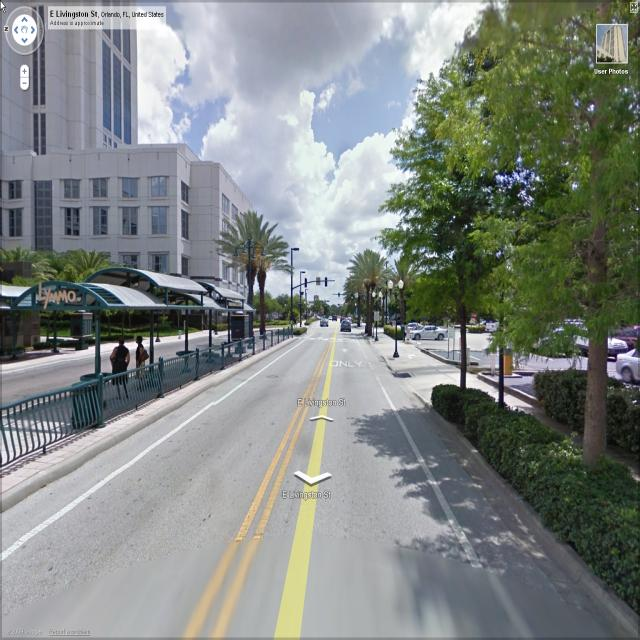b_1: (1, 146, 253, 292), (0, 12, 140, 146)
